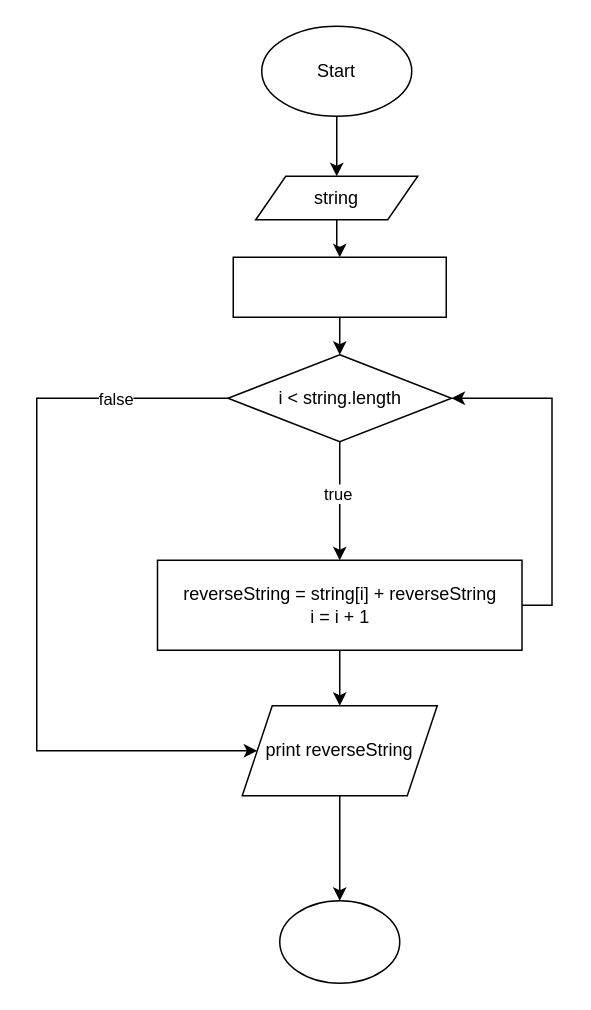
This 591x1010 diagram has some shape labels left out. Each missing label, with the centre of its shape:
End: point 339,941
reverseString = " " i = 0: point 339,286
